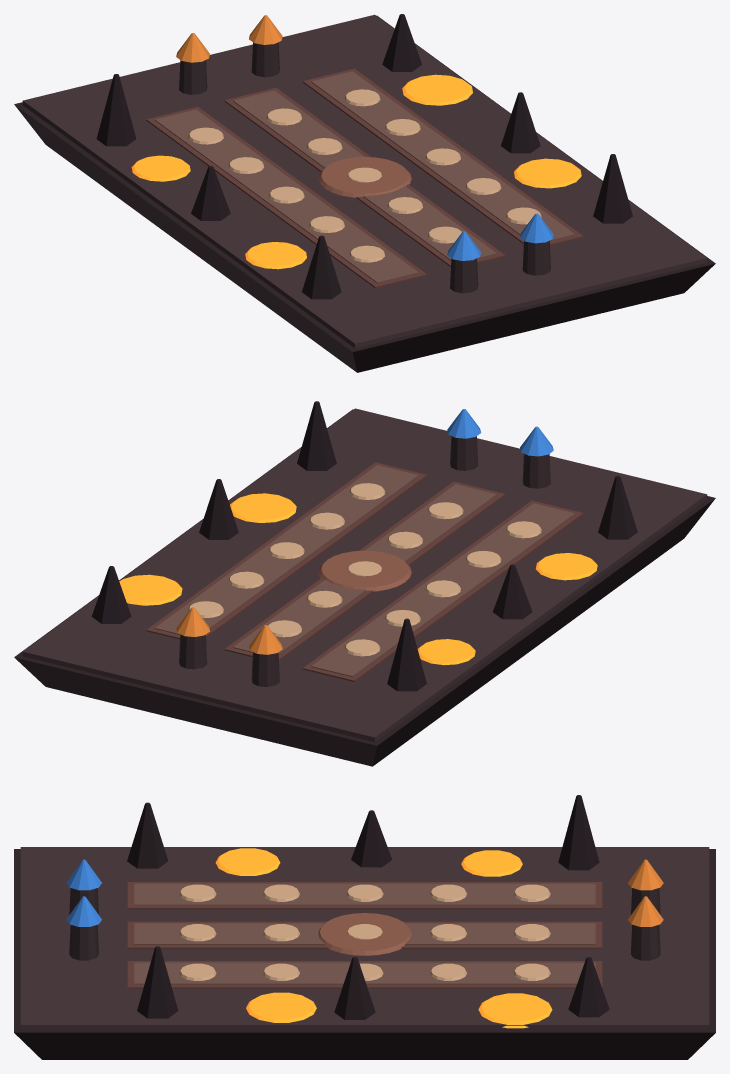
Rendered from field-lava-v2.glb.
3 renders of one model, top to bottom at view 1: azimuth 30°, elevation 25°; view 2: azimuth 150°, elevation 25°; view 3: azimuth 270°, elevation 25°, orthographic. The views are drawn at different scales.
Visible parts, largest first — view 1: Deck_Top, Island_Base, LanePath_0, LanePath_2, LanePath_1, LaneCurb_0, LaneCurb_2, Monster_Plaza, LaneCurb_1, Spire_2, MagmaPool_3, Spire_1 (+15 smaller); view 2: Deck_Top, Island_Base, LanePath_0, LanePath_2, LanePath_1, LaneCurb_0, LaneCurb_2, Monster_Plaza, LaneCurb_1, Spire_2, Spire_1, MagmaPool_1 (+15 smaller); view 3: Deck_Top, Island_Base, LanePath_0, LanePath_2, LanePath_1, LaneCurb_0, LaneCurb_1, LaneCurb_2, Monster_Plaza, MagmaPool_3, Spire_2, Spire_1 (+29 smaller).
Part boxes in pixels (bbox=[...]): Deck_Top: bbox=[22, 14, 707, 348]; Island_Base: bbox=[14, 15, 715, 372]; LanePath_0: bbox=[155, 109, 418, 283]; LanePath_2: bbox=[311, 71, 575, 240]; LanePath_1: bbox=[233, 90, 496, 260]; LaneCurb_0: bbox=[146, 107, 426, 288]; LaneCurb_2: bbox=[303, 68, 583, 245]; Monster_Plaza: bbox=[318, 157, 411, 197]; LaneCurb_1: bbox=[224, 87, 505, 266]; Spire_2: bbox=[96, 74, 136, 146]; MagmaPool_3: bbox=[402, 74, 472, 105]; Spire_1: bbox=[593, 154, 632, 223]; Deck_Top: bbox=[22, 408, 707, 741]; Island_Base: bbox=[14, 409, 715, 766]; LanePath_0: bbox=[311, 503, 575, 676]; LanePath_2: bbox=[154, 465, 418, 634]; LanePath_1: bbox=[233, 484, 496, 654]; LaneCurb_0: bbox=[303, 500, 583, 681]; LaneCurb_2: bbox=[146, 462, 426, 639]; Monster_Plaza: bbox=[318, 550, 411, 591]; LaneCurb_1: bbox=[224, 481, 505, 660]; Spire_2: bbox=[387, 618, 426, 691]; Spire_1: bbox=[297, 401, 336, 470]; MagmaPool_1: bbox=[230, 493, 296, 522]; Deck_Top: bbox=[20, 847, 709, 1029]; Island_Base: bbox=[14, 849, 715, 1059]; LanePath_0: bbox=[134, 883, 595, 905]; LanePath_2: bbox=[134, 962, 595, 984]; LanePath_1: bbox=[134, 923, 595, 944]; LaneCurb_0: bbox=[127, 882, 602, 909]; LaneCurb_1: bbox=[127, 921, 602, 949]; LaneCurb_2: bbox=[127, 961, 602, 988]; Monster_Plaza: bbox=[318, 913, 411, 955]; MagmaPool_3: bbox=[478, 993, 552, 1028]; Spire_2: bbox=[558, 795, 599, 870]; Spire_1: bbox=[137, 946, 178, 1018].
Size of the model in its own units: 13 by 3.56 by 21.
